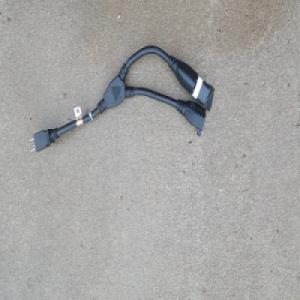Wire: (28, 43, 215, 154)
